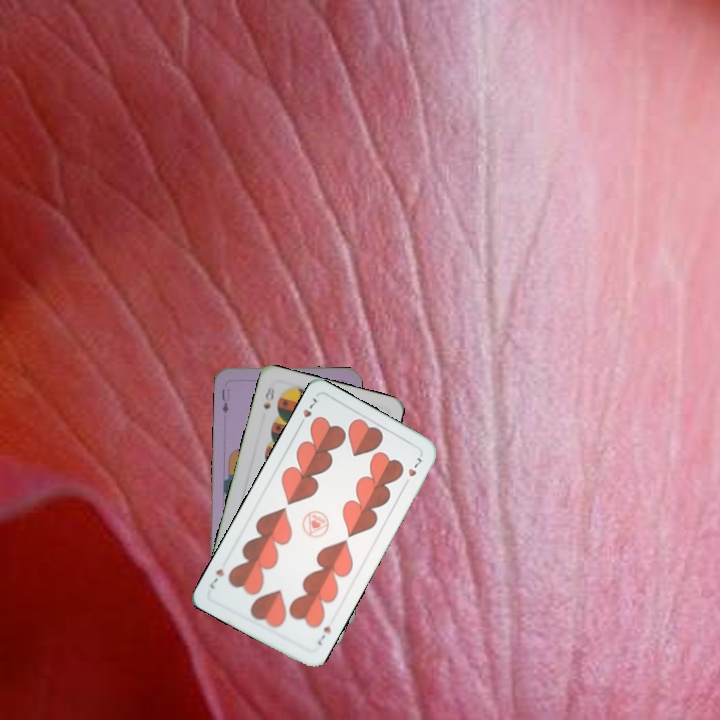EU: (218, 385, 232, 416)
H7: (295, 393, 321, 430), (313, 622, 334, 648)
S8: (259, 382, 277, 412)
